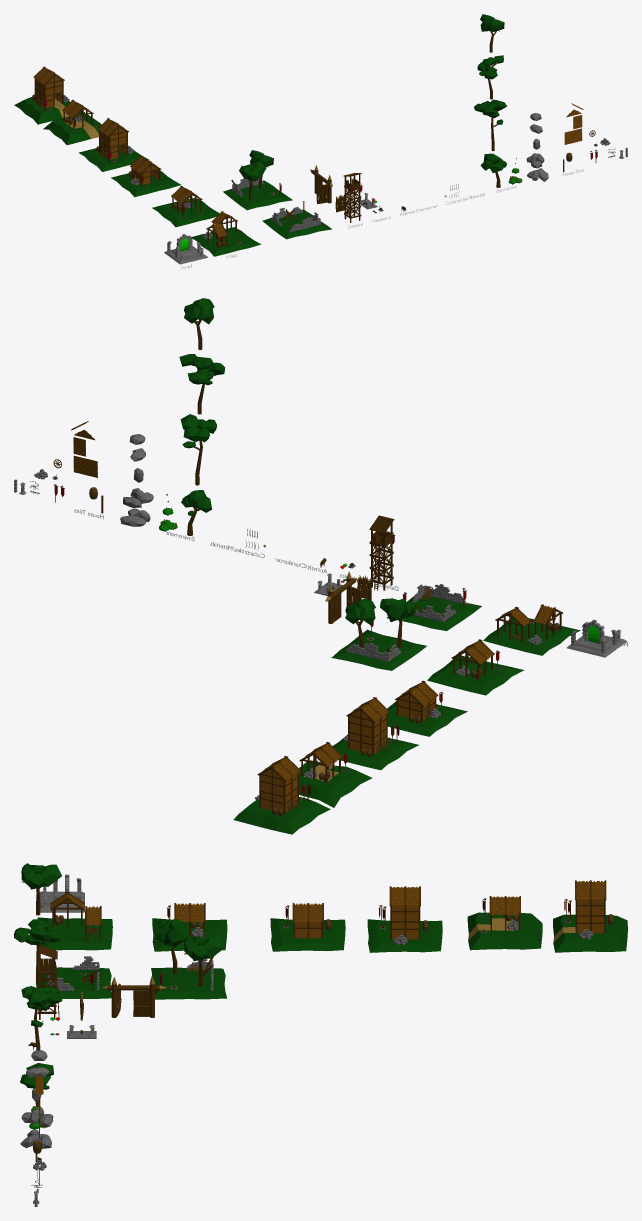
Rendered from Allmodels.fbx.
3 views of the same model, one above another, from view 1: azimuth 30°, elevation 25°; view 2: azimuth 150°, elevation 25°; view 3: azimuth 270°, elevation 25° (orthographic). The views are drawn at different scales.
Visible parts, largest first — view 1: Ruin_2, Hut_Wall_Path_4, Hut_Wood_4, Hut_Wood_1, Hut_Wood_Path_2, Hut_Wood_3, Hut_Wood_2, Ruin_1, ArcherTower, PortalFrame, Tree_2, Tree_3 (+2 smaller); view 2: Hut_Wall_Path_4, Ruin_2, Hut_Wood_4, Hut_Wood_1, Hut_Wood_2, Hut_Wood_Path_2, Hut_Wood_3, Ruin_1, ArcherTower, PortalFrame, Tree_2, Tree_3 (+1 smaller); view 3: Ruin_2, Hut_Wall_Path_4, Hut_Wood_4, Hut_Wood_Path_2, Hut_Wood_3, Hut_Wood_1, Ruin_1, Hut_Wood_2, Tree_2, Tree_3, Tree_4, PortalFrame (+2 smaller).
Part boxes in pixels (x1,y1,x2,y2): Ruin_2: (223,150,292,210); Hut_Wall_Path_4: (14,66,84,124); Hut_Wood_4: (79,118,148,171); Hut_Wood_1: (192,211,261,256); Hut_Wood_Path_2: (43,99,101,145); Hut_Wood_3: (111,155,180,197); Hut_Wood_2: (152,186,219,227); Ruin_1: (262,201,331,239); ArcherTower: (343,173,362,222); PortalFrame: (164,234,207,264); Tree_2: (474,99,506,151); Tree_3: (477,55,503,99); Hut_Wall_Path_4: (233,756,330,834); Ruin_2: (331,598,426,670); Hut_Wood_4: (332,697,418,770); Hut_Wood_1: (483,604,580,655); Hut_Wood_2: (427,639,524,695); Hut_Wood_Path_2: (299,742,372,807); Hut_Wood_3: (387,680,467,736); Ruin_1: (386,584,481,630); ArcherTower: (369,515,395,590); PortalFrame: (566,619,626,657); Tree_2: (180,414,216,485); Tree_3: (179,354,225,414); Ruin_2: (150,919,227,999); Hut_Wall_Path_4: (553,880,627,952); Hut_Wood_4: (367,886,442,952); Hut_Wood_Path_2: (467,896,542,950); Hut_Wood_3: (270,903,345,951); Hut_Wood_1: (37,891,112,950); Ruin_1: (35,956,111,999); Hut_Wood_2: (152,903,227,951); Tree_2: (21,986,62,1050); Tree_3: (14,919,60,982); Tree_4: (21,863,61,915); PortalFrame: (39,874,84,912).
Size of the model in its own units: 9916 by 3769 by 8210.
